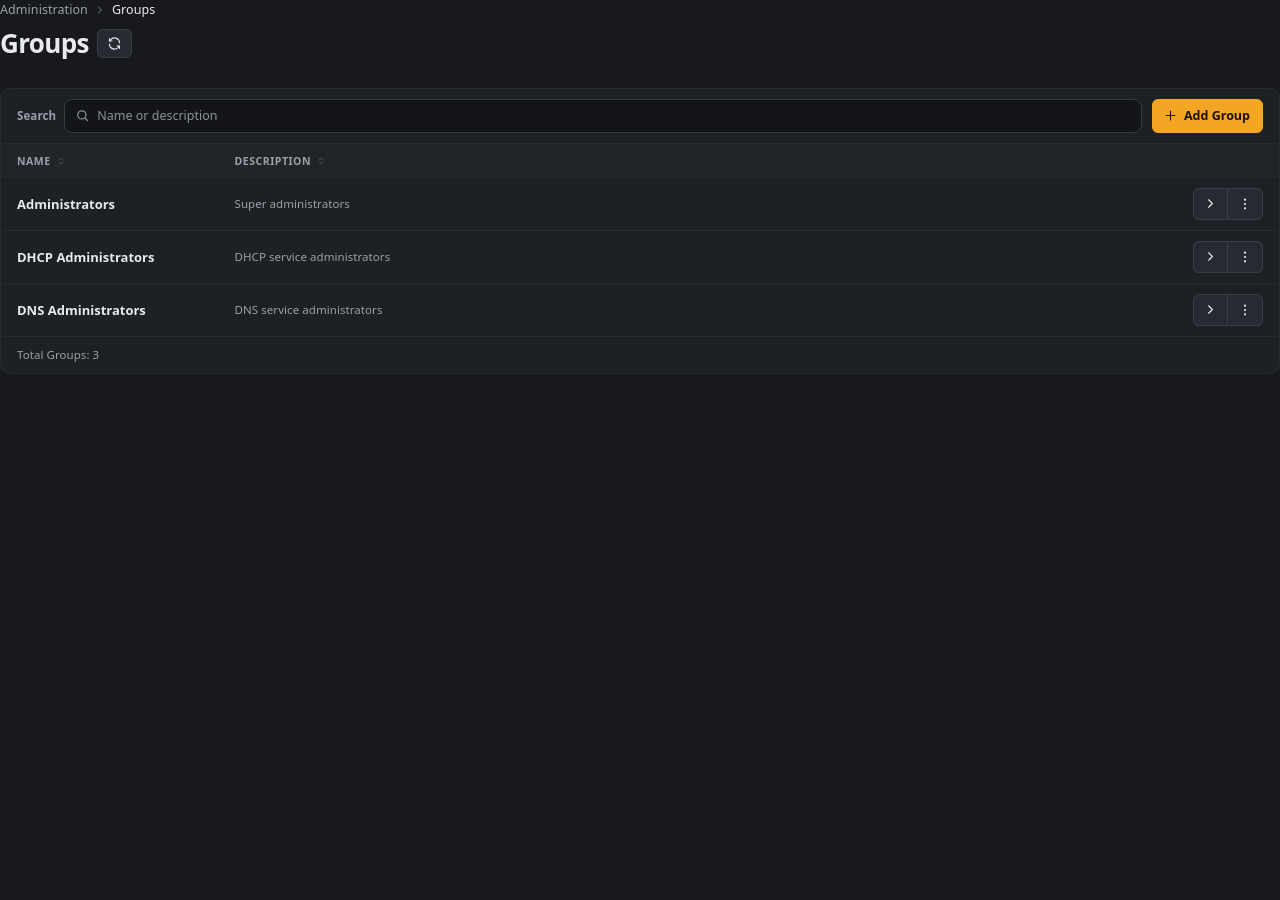
Test: Groups: "Add Group" › it creates the group with its description and puts it first in the list
The width and height of the screenshot is (1280, 900).
Step 1. Click the button "Add Group" → (1208, 116), box [1152,99,1263,133]
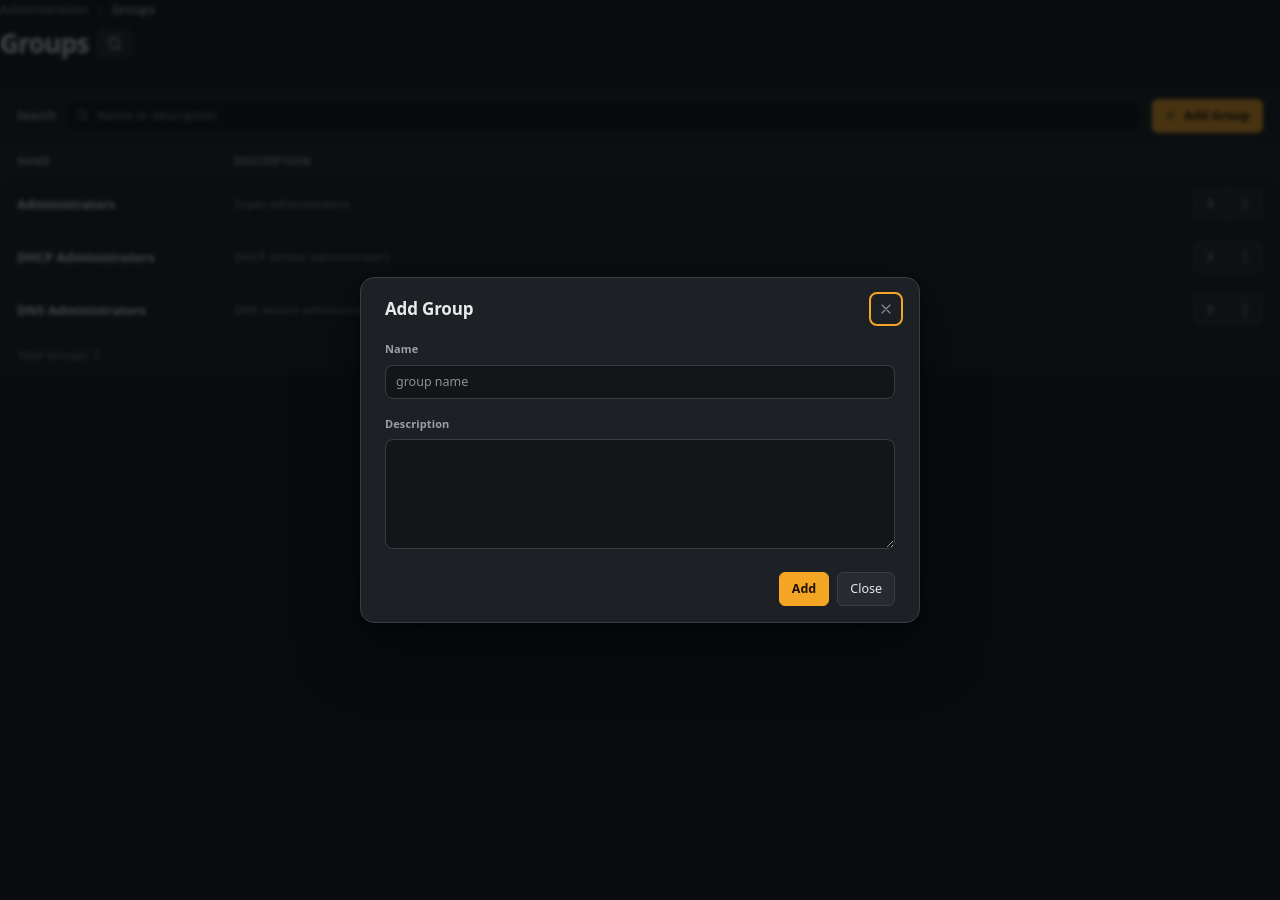
Step 2. Type "Ops" into the field labelled "Name" → (640, 382), box [385,364,895,398]
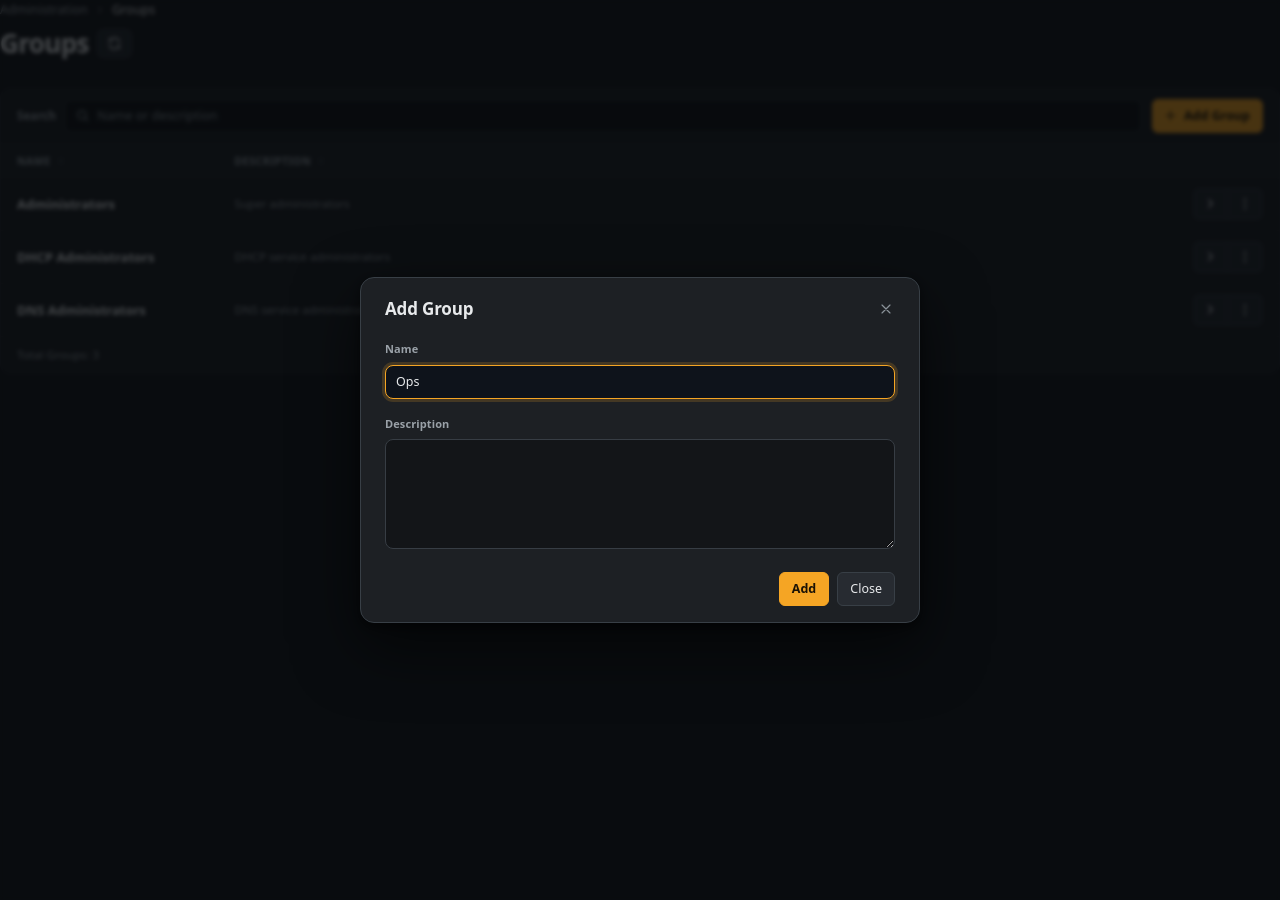
Step 3. Type "the on-call team" into the text box labelled "Description" → (640, 494), box [385,438,895,548]
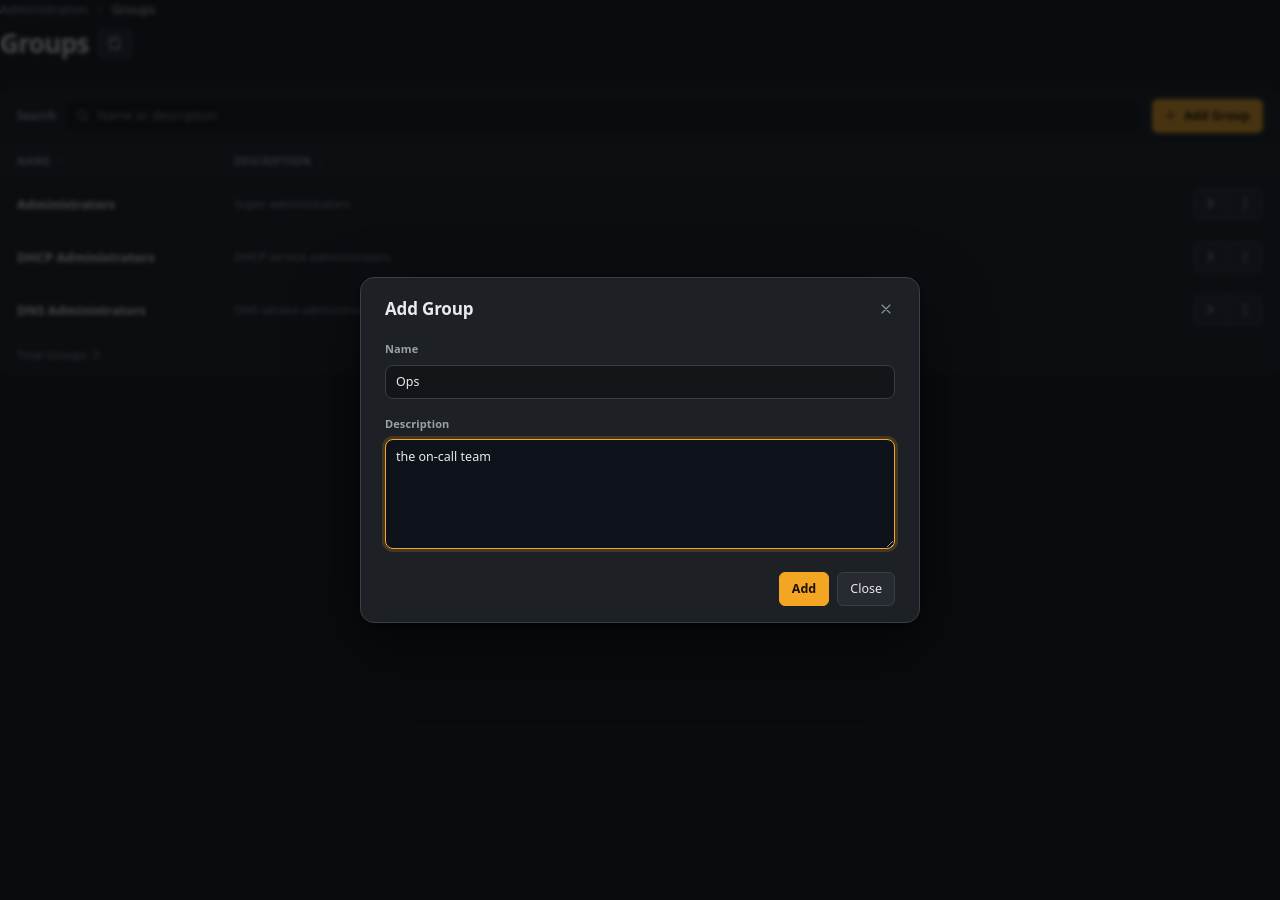
Step 4. Click the button "Add" → (804, 588), box [779,572,829,606]
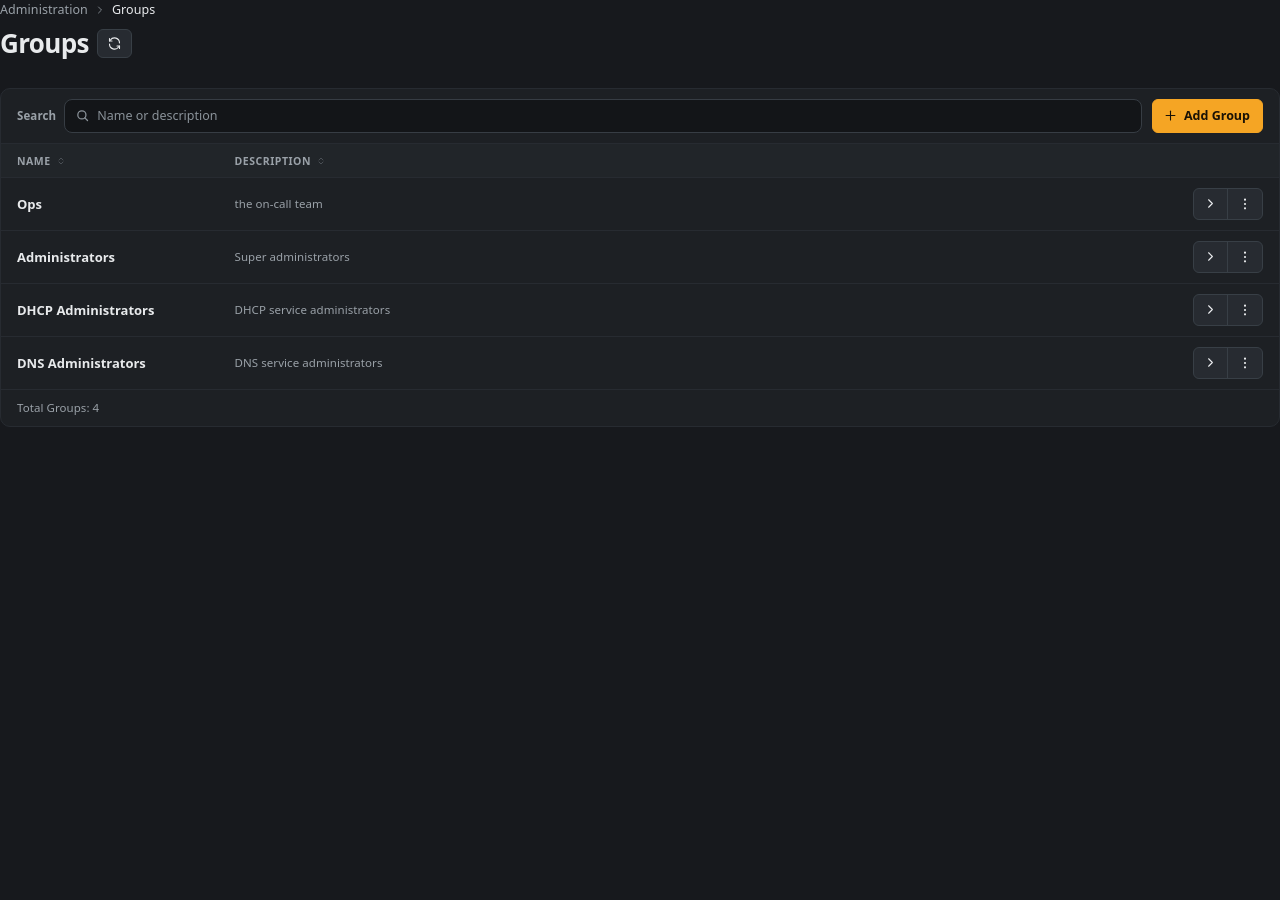
Check: the text "Total Groups: 4" is shown, box [17,399,99,417]
